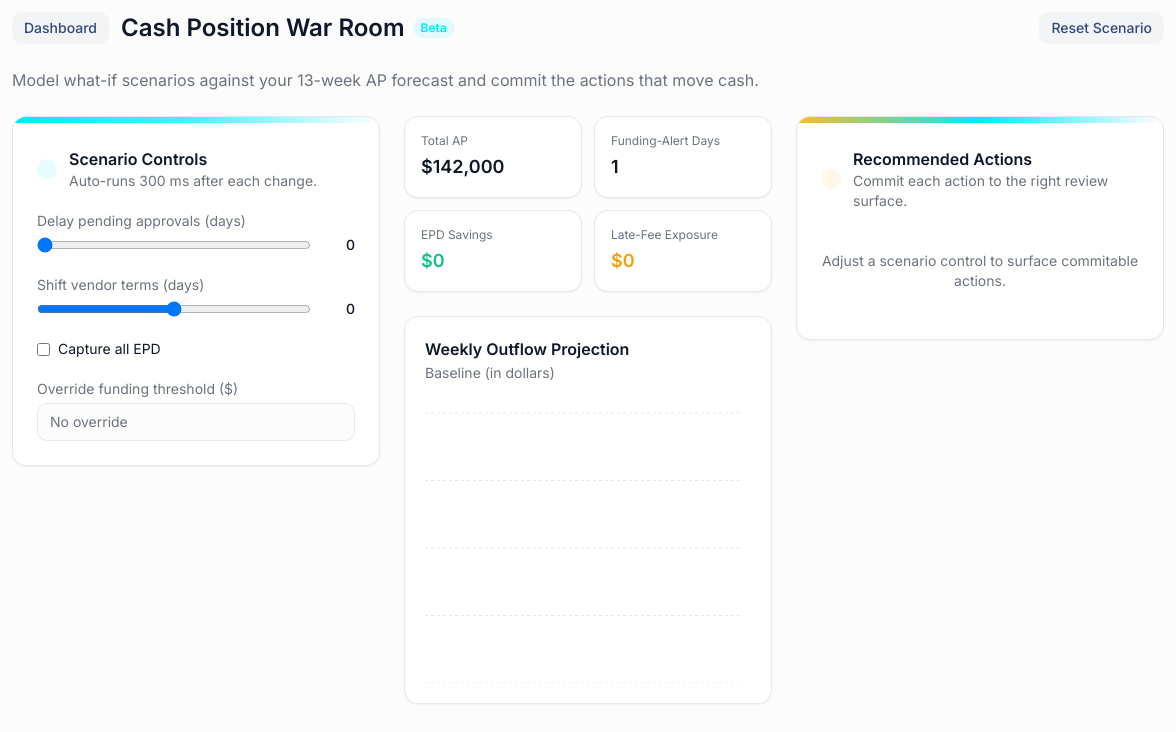
Test: WarRoomPage › changes pending_approval_delay_days, debounces, and surfaces the delay recommendation
Expected: the heading "Cash Position War Room" is shown, [121,12,405,44]
Set the slider labelled "Delay pending approvals (days)" to "7" at (105, 245), box [37,237,311,253]
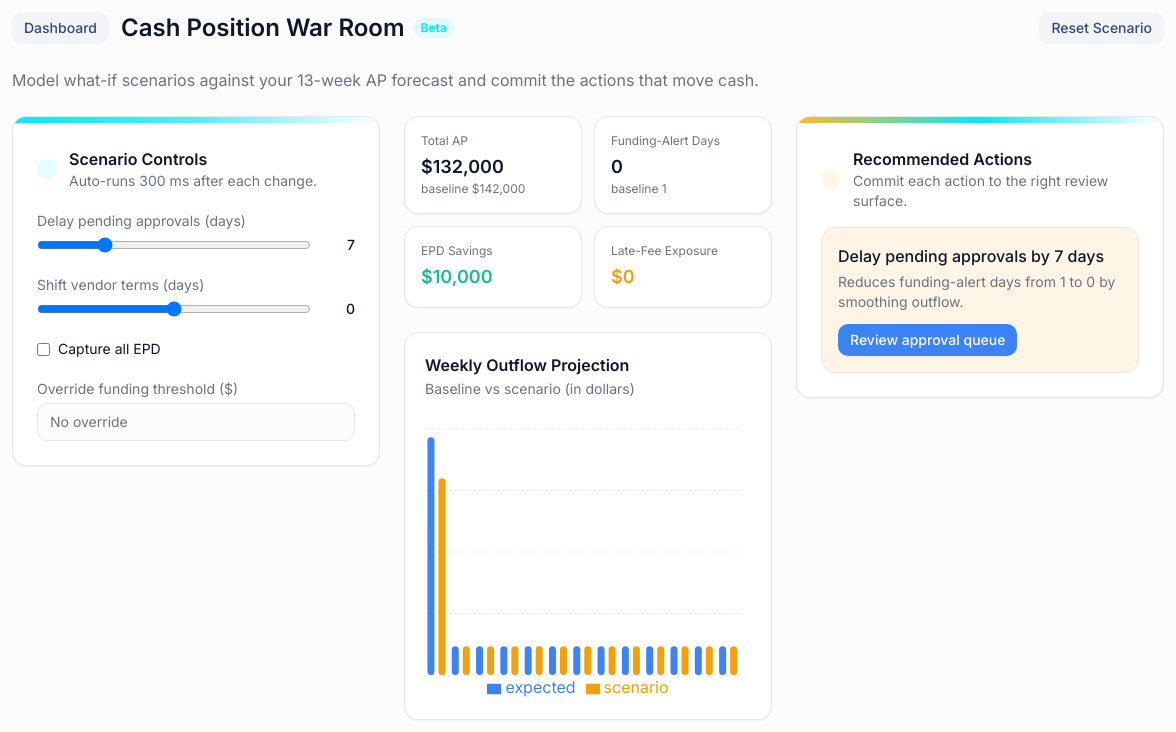
Expected: the button "Review approval queue" is shown, [838,324,1018,356]
